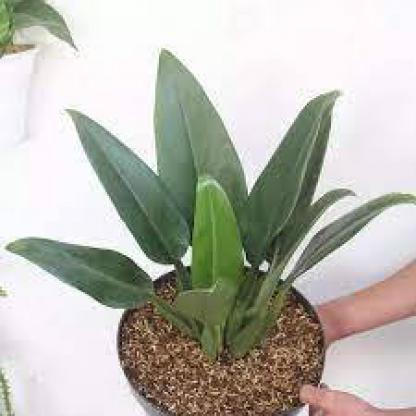Kenanga: (225, 27, 289, 185), (133, 35, 215, 147), (352, 248, 408, 340), (359, 85, 412, 166), (77, 145, 123, 207)
